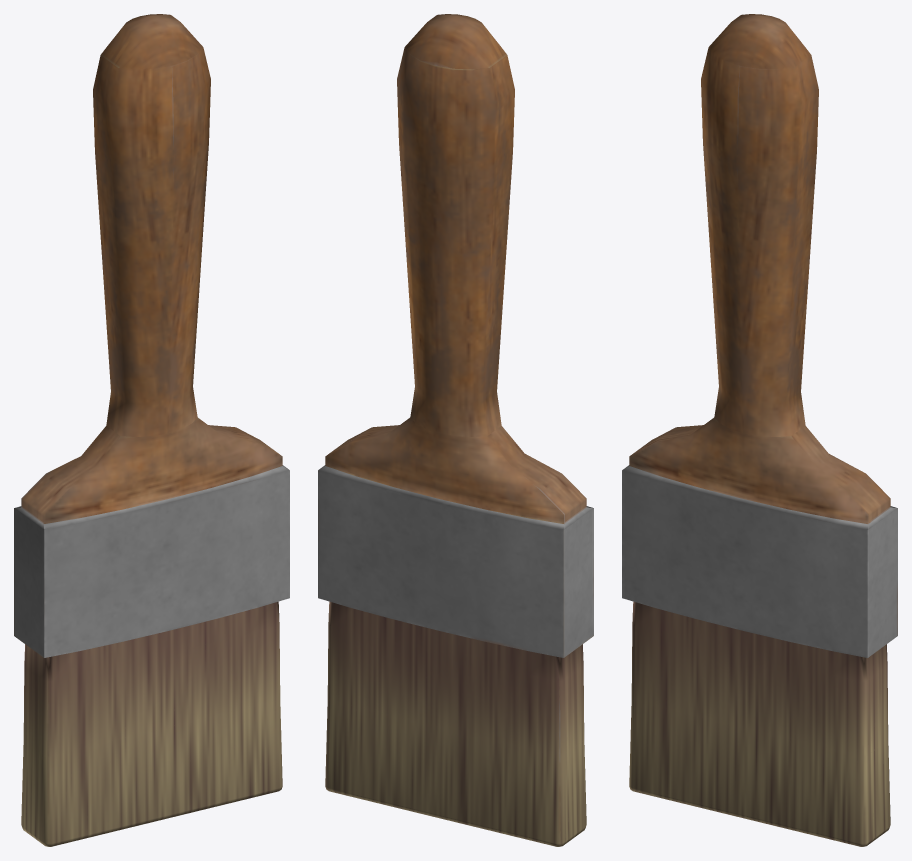
Rendered from paint_brush.fbx.
The picture shows the model from 3 angles, left to right: view 1: azimuth 30°, elevation 25°; view 2: azimuth 150°, elevation 25°; view 3: azimuth 330°, elevation 25°; orthographic projection.
Visible parts, largest first — view 1: pCylinder51; view 2: pCylinder51; view 3: pCylinder51.
Boxes of the visible parts, bbox=[...] form: pCylinder51: bbox=[14, 14, 289, 846]; pCylinder51: bbox=[318, 14, 593, 846]; pCylinder51: bbox=[622, 14, 897, 846].
Size of the model in its own units: 0.0647 by 0.2 by 0.0203.
